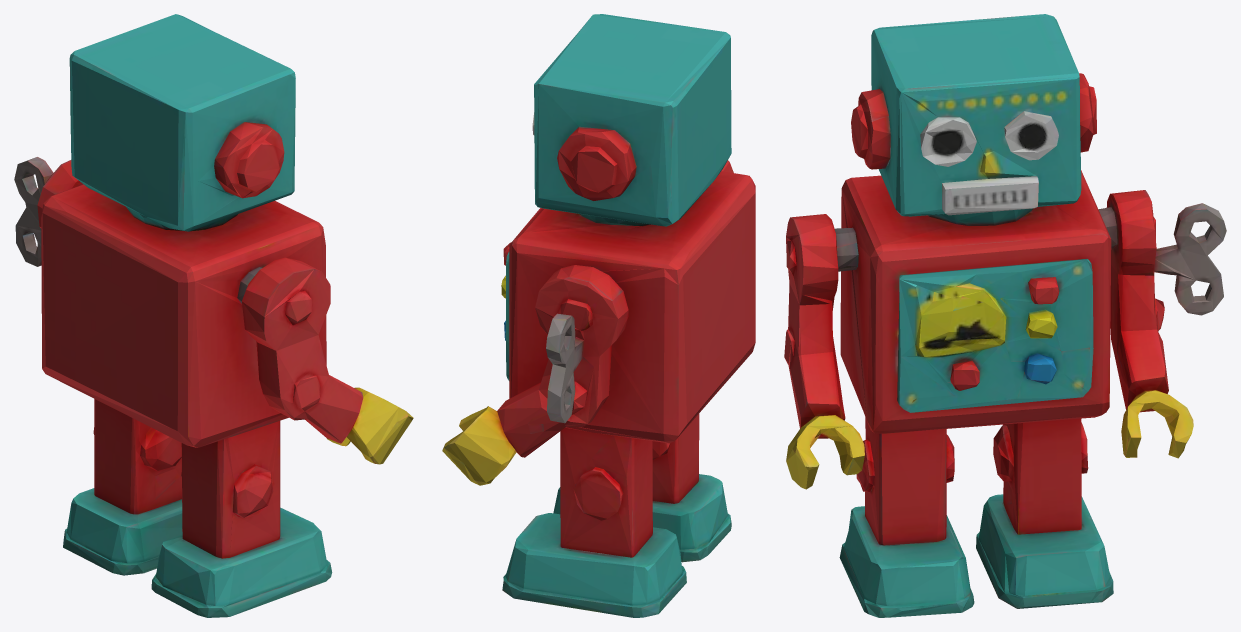
Rendered from windup_robot.glb.
The picture shows the model from 3 angles, left to right: view 1: azimuth 30°, elevation 25°; view 2: azimuth 150°, elevation 25°; view 3: azimuth 270°, elevation 25°; orthographic projection. The views are drawn at different scales.
Visible parts, largest first — view 1: Object_4; view 2: Object_4; view 3: Object_4.
Part boxes in pixels (x1,y1,x2,y2): Object_4: (14,14,413,617); Object_4: (442,14,755,617); Object_4: (784,14,1226,617).
Size of the model in its own units: 0.1113 by 0.2191 by 0.17.
Materials: 1 (1 with a texture image).
